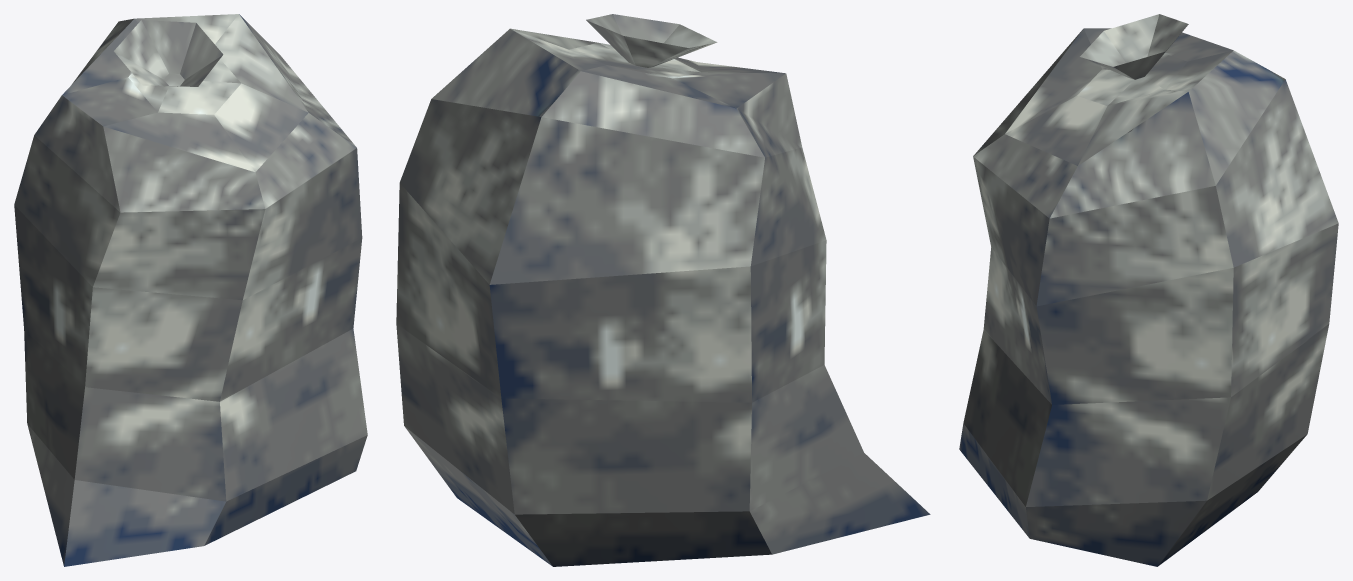
Rendered from Urban_Trashbag2White_Model.fbx.
The picture shows the model from 3 angles, left to right: view 1: azimuth 30°, elevation 25°; view 2: azimuth 150°, elevation 25°; view 3: azimuth 270°, elevation 25°; orthographic projection. The views are drawn at different scales.
Visible parts, largest first — view 1: Urban_Trashbag2White_Mesh; view 2: Urban_Trashbag2White_Mesh; view 3: Urban_Trashbag2White_Mesh.
Part boxes in pixels (x1,y1,x2,y2): Urban_Trashbag2White_Mesh: (14, 14, 367, 566); Urban_Trashbag2White_Mesh: (396, 14, 930, 566); Urban_Trashbag2White_Mesh: (959, 14, 1338, 566).
Bounding box in the file's own units: 0.8555 × 1.04 × 0.7744.
